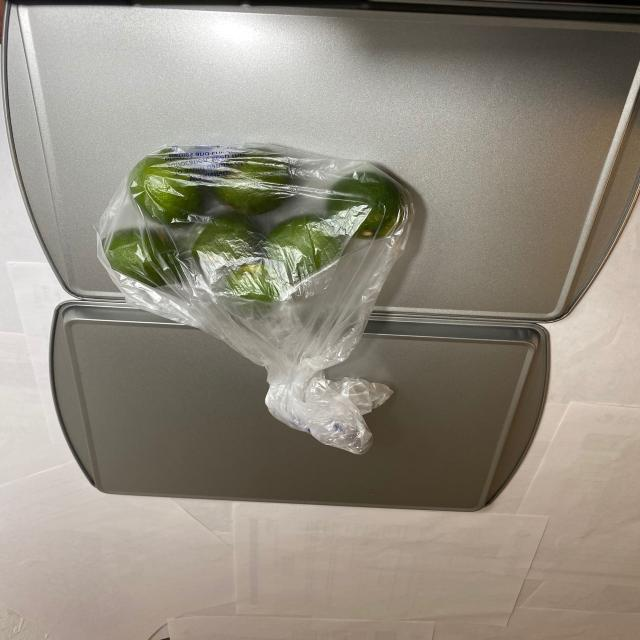lemon: (102, 151, 408, 306)
